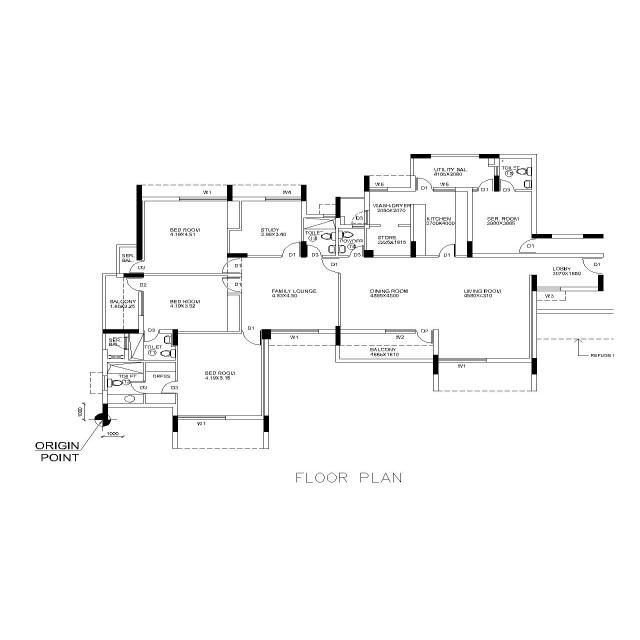Column: (135, 184, 145, 262), (102, 328, 140, 335), (492, 173, 502, 194), (529, 273, 539, 293), (478, 152, 502, 160), (334, 196, 342, 219), (530, 232, 553, 240), (101, 403, 109, 426), (596, 274, 606, 292), (334, 325, 342, 347), (409, 153, 433, 160), (362, 248, 376, 260), (432, 354, 440, 375), (409, 240, 417, 260), (171, 414, 179, 434), (300, 240, 308, 260), (122, 272, 148, 278), (582, 233, 604, 240), (466, 240, 474, 259), (531, 357, 539, 376), (226, 184, 234, 202), (300, 184, 308, 202), (171, 328, 179, 346), (262, 415, 270, 433), (260, 329, 272, 340), (226, 252, 248, 258), (363, 175, 370, 192)
Door: (415, 186, 435, 192), (598, 256, 604, 276), (123, 336, 131, 351), (363, 209, 370, 225), (436, 254, 457, 259), (174, 379, 180, 395), (143, 329, 161, 334), (280, 254, 302, 258), (337, 257, 342, 274), (476, 188, 496, 192), (414, 328, 434, 332), (499, 188, 517, 192), (306, 254, 324, 258), (240, 276, 244, 294), (534, 237, 538, 255), (142, 380, 147, 394), (240, 257, 244, 274), (348, 254, 364, 258), (141, 277, 145, 293), (141, 259, 145, 274), (241, 330, 262, 332)
Window: (437, 357, 488, 363), (178, 196, 228, 202), (262, 196, 302, 203), (270, 329, 320, 334), (177, 415, 227, 420), (382, 328, 416, 335), (535, 286, 562, 292), (367, 186, 389, 192)
